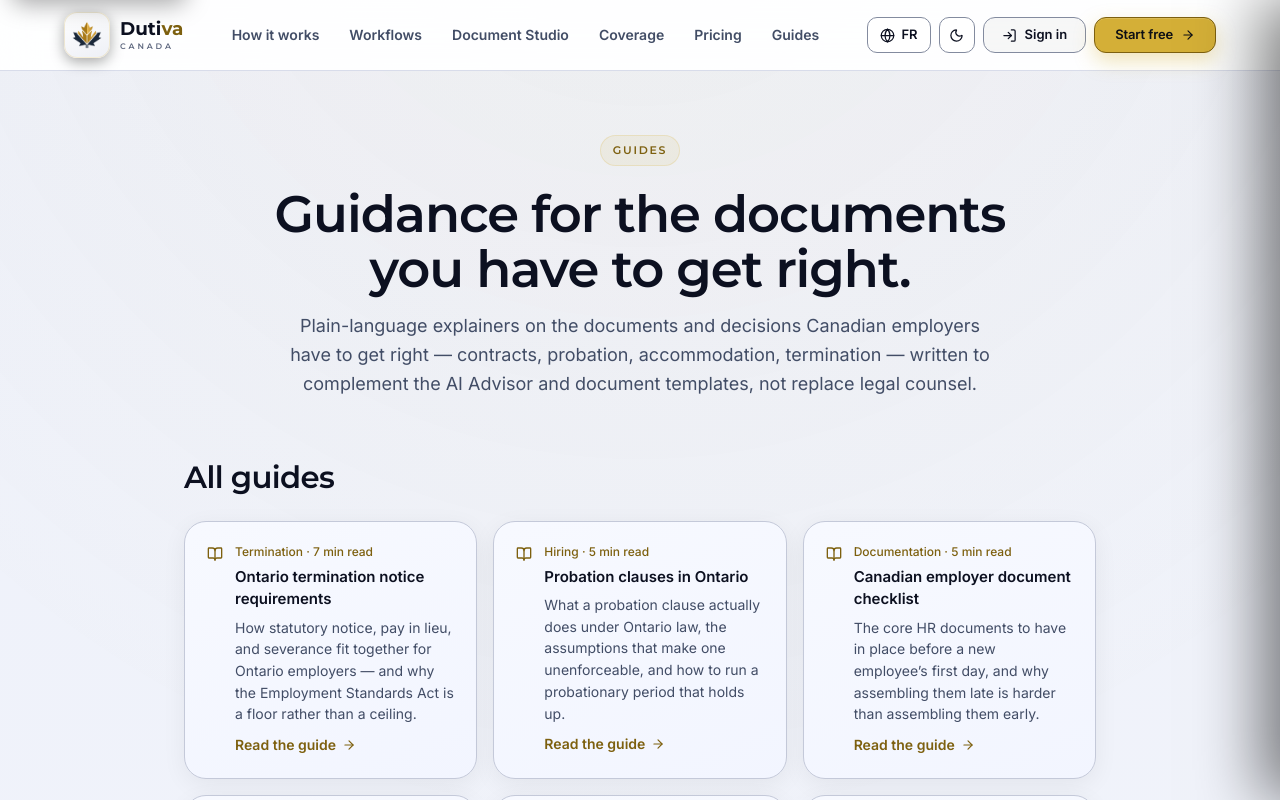
it: GuidesIndexPage › re-localizes to French via the header language toggle
Click the button with aria-label "Toggle language": x=899, y=35 [868, 17, 931, 53]
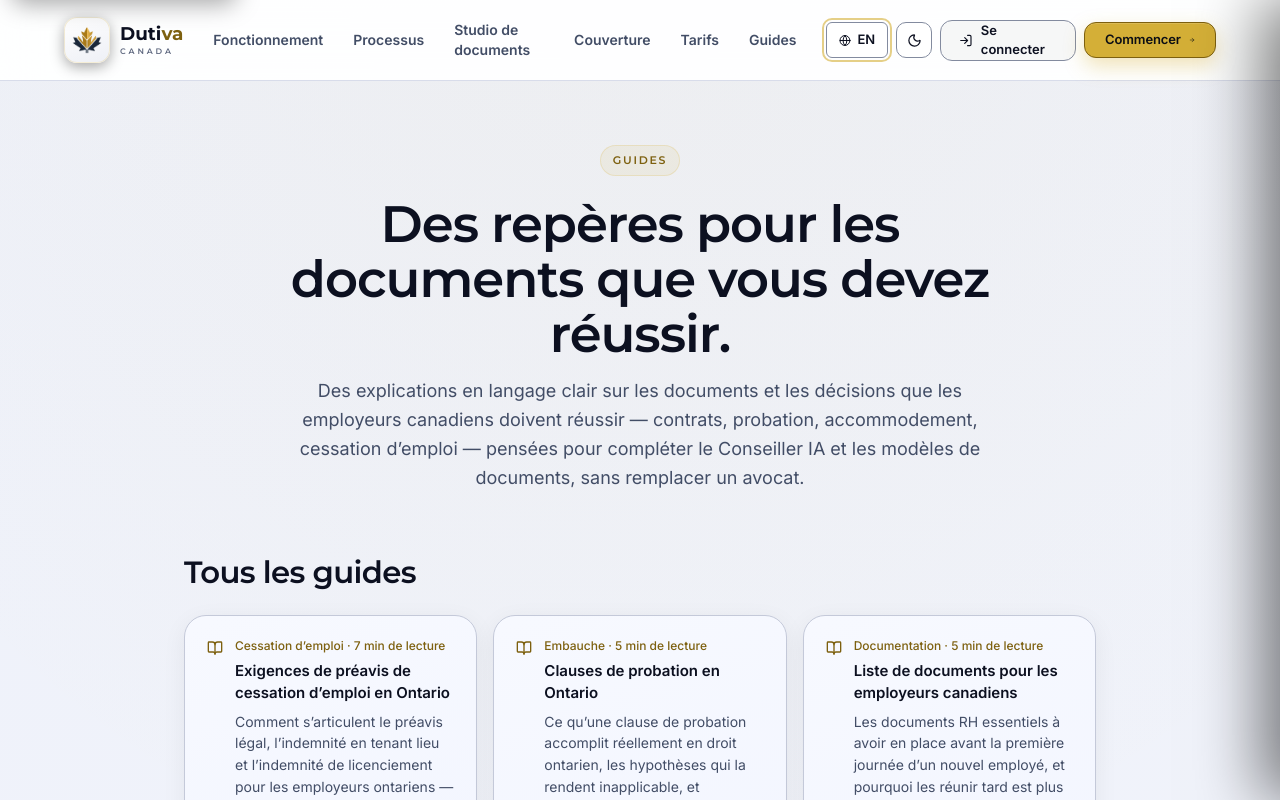
Result: the heading "Des repères pour les documents que vous devez réussir." is shown at [244, 196, 1036, 361]
Result: the heading "Tous les guides" is shown at [184, 553, 416, 591]
